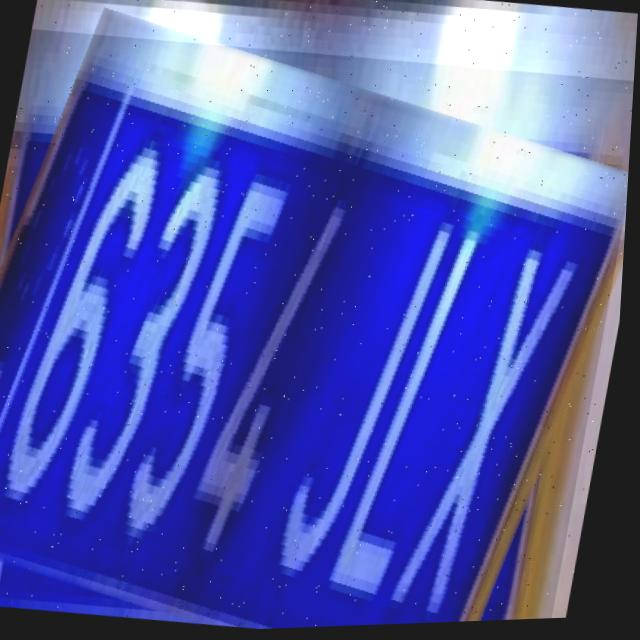LicensePlate: (0, 11, 639, 640)
